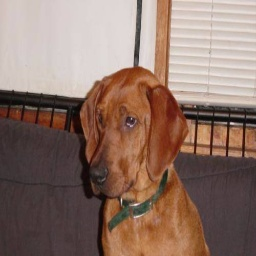dog: (64, 65, 220, 256)
